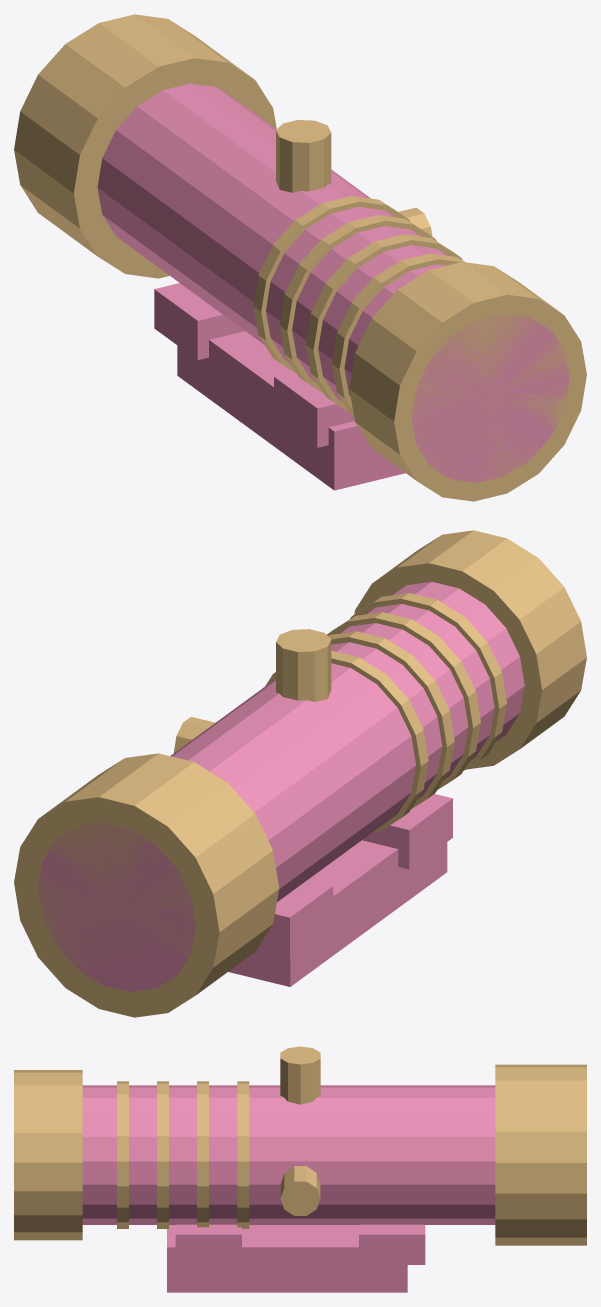
Rendered from SniperScope.obj.
The picture shows the model from 3 angles, top to bottom: view 1: azimuth 30°, elevation 25°; view 2: azimuth 150°, elevation 25°; view 3: azimuth 270°, elevation 25°; orthographic projection. The views are drawn at different scales.
Visible parts, largest first — view 1: SniperScope_Body, SniperScope_Detail; view 2: SniperScope_Body, SniperScope_Detail; view 3: SniperScope_Body, SniperScope_Detail.
Part boxes in pixels (<box>): SniperScope_Body: <box>97,83,569,490</box>; SniperScope_Detail: <box>14,14,586,501</box>; SniperScope_Body: <box>37,582,524,992</box>; SniperScope_Detail: <box>14,530,586,1017</box>; SniperScope_Body: <box>82,1085,495,1292</box>; SniperScope_Detail: <box>14,1046,586,1245</box>.
Size of the model in its own units: 0.2915 by 0.3575 by 0.86.
